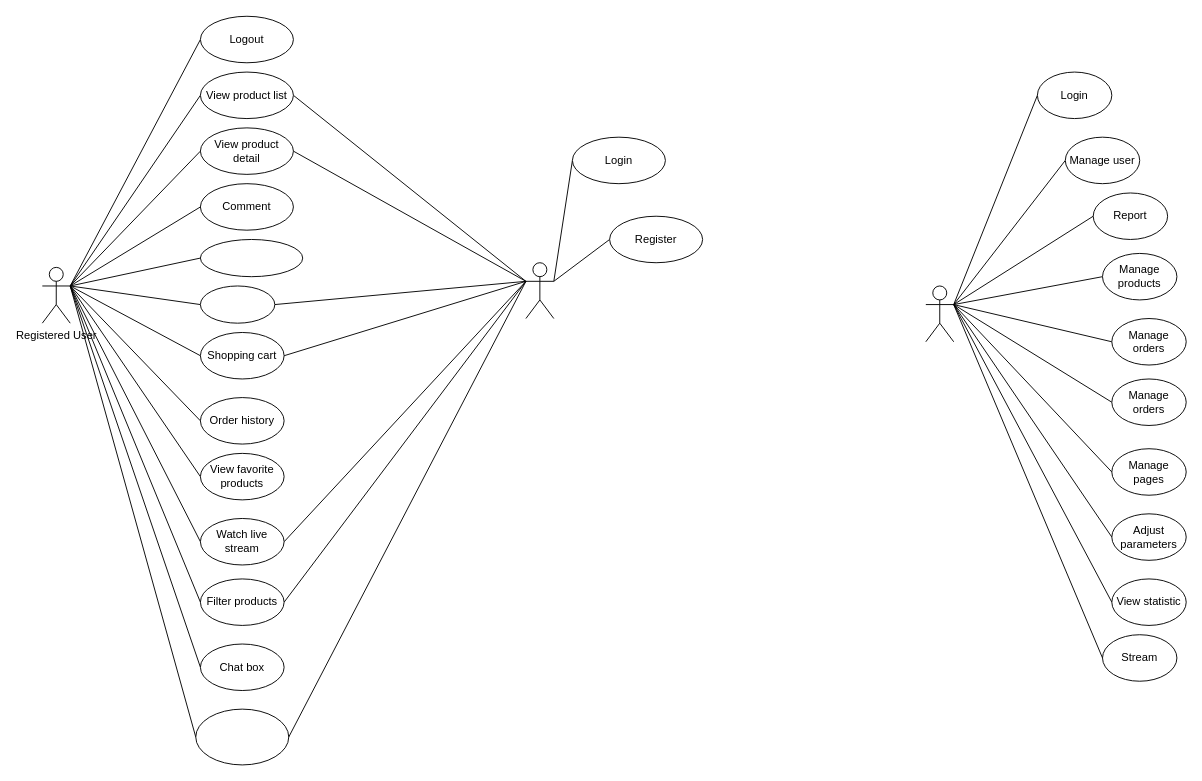
Some shapes in this 1202 by 781 pixel diagram are drawn without their labels. Here are the shapes that lost their labels. From the top down, the centre of each, then its label:
At point (251, 258): "View user's profile".
At point (237, 304): "Checkout".
At point (539, 290): "Guest".
At point (939, 313): "Admin".
At point (242, 736): "Search products".
